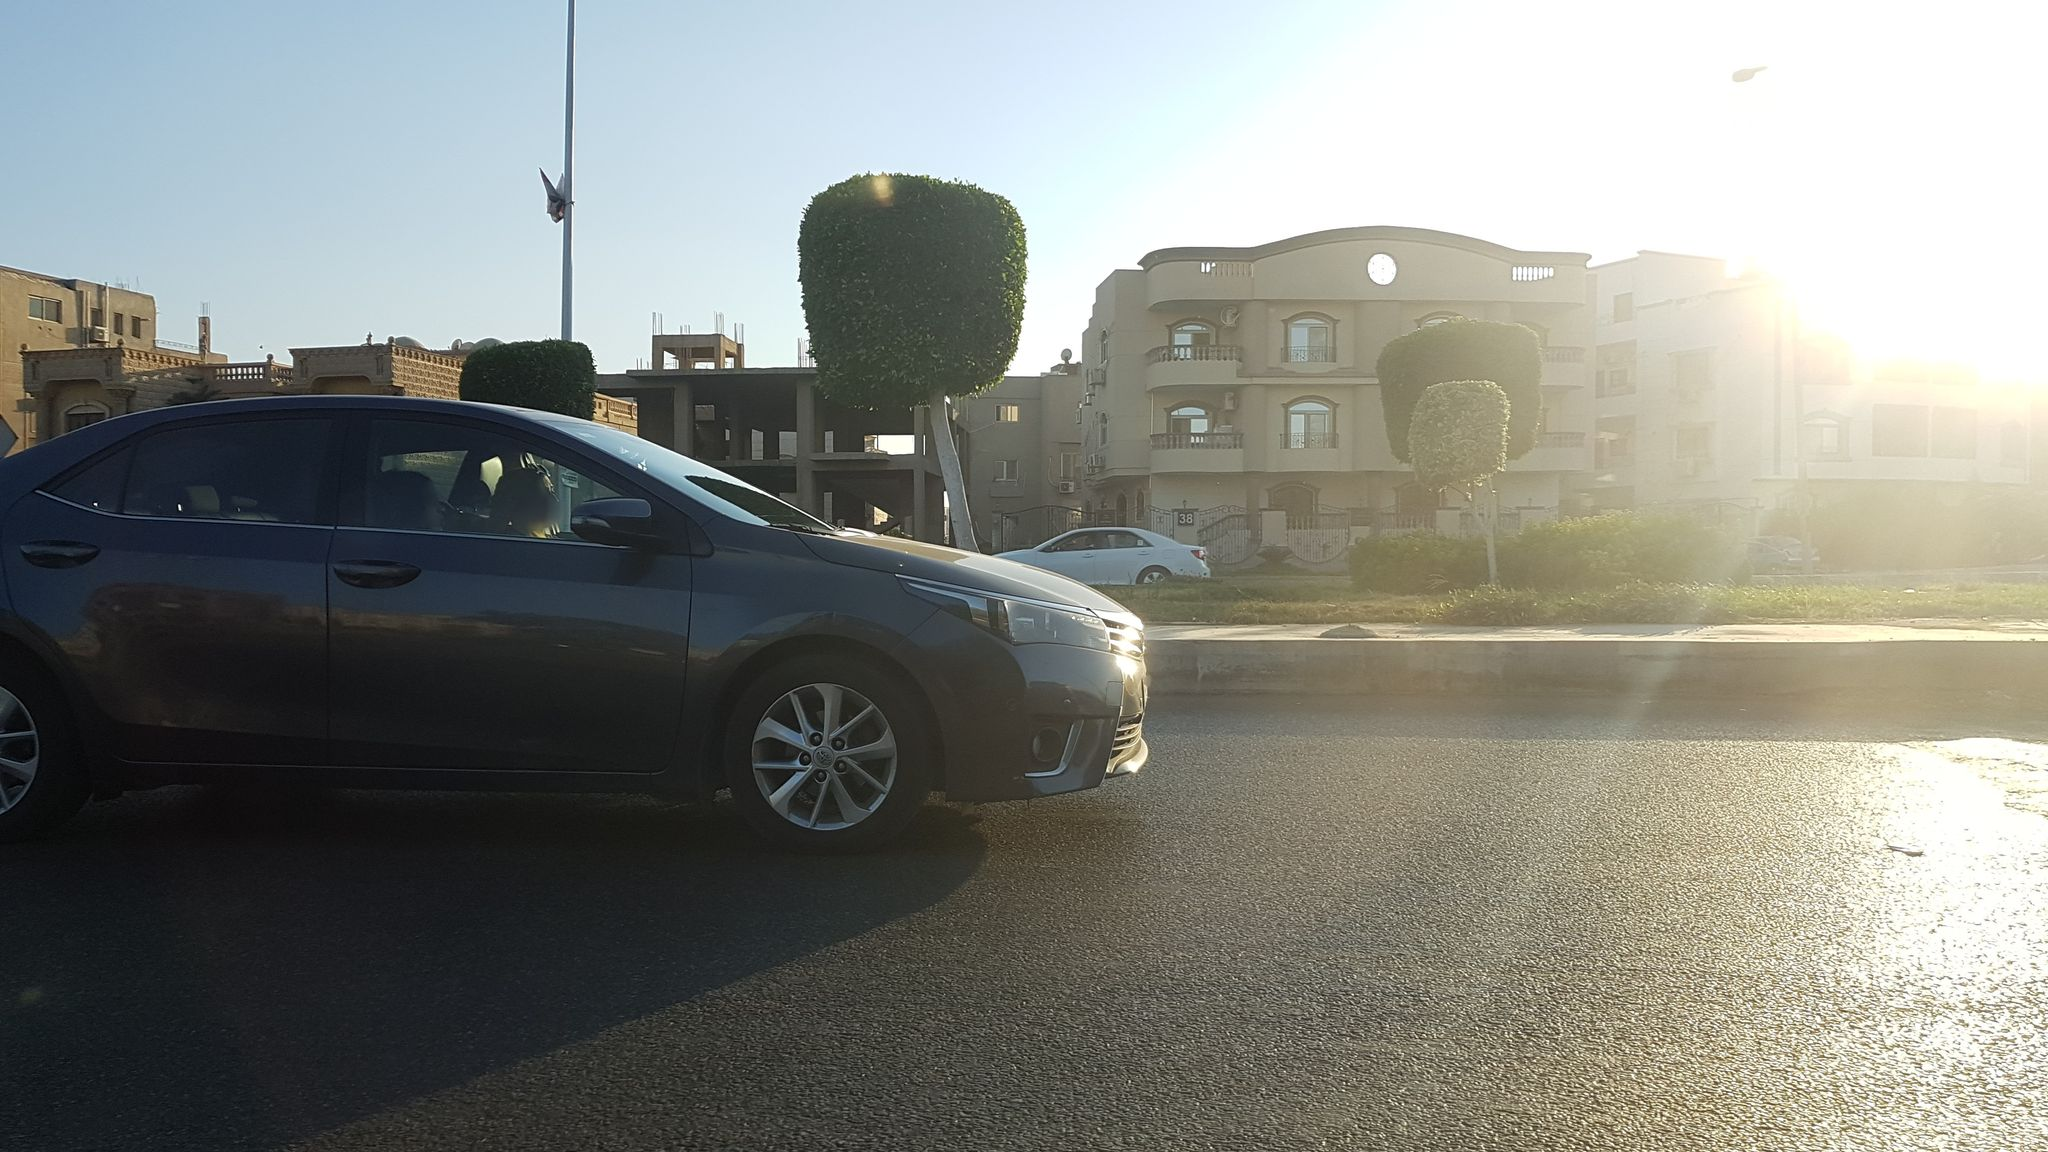car: (0, 391, 1152, 843), (987, 525, 1211, 582)
